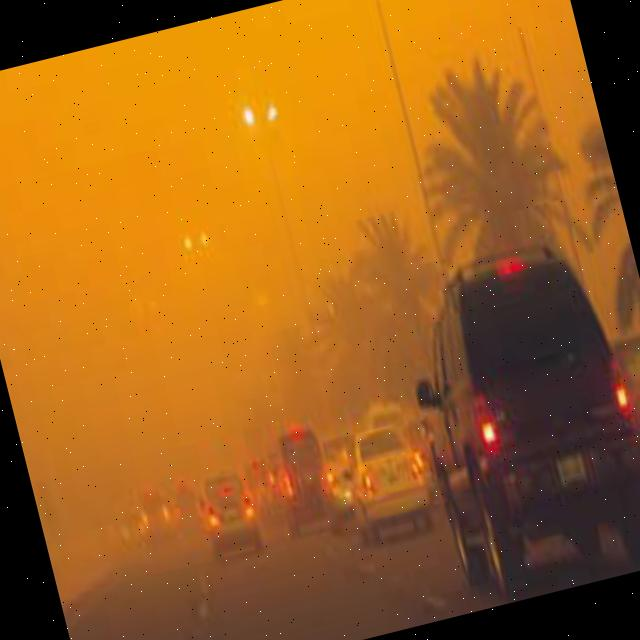car: (398, 238, 640, 607), (334, 416, 438, 556), (264, 422, 342, 534), (195, 460, 264, 558), (609, 328, 640, 528), (312, 440, 368, 532), (128, 469, 178, 542), (161, 466, 210, 530), (256, 443, 294, 519)
